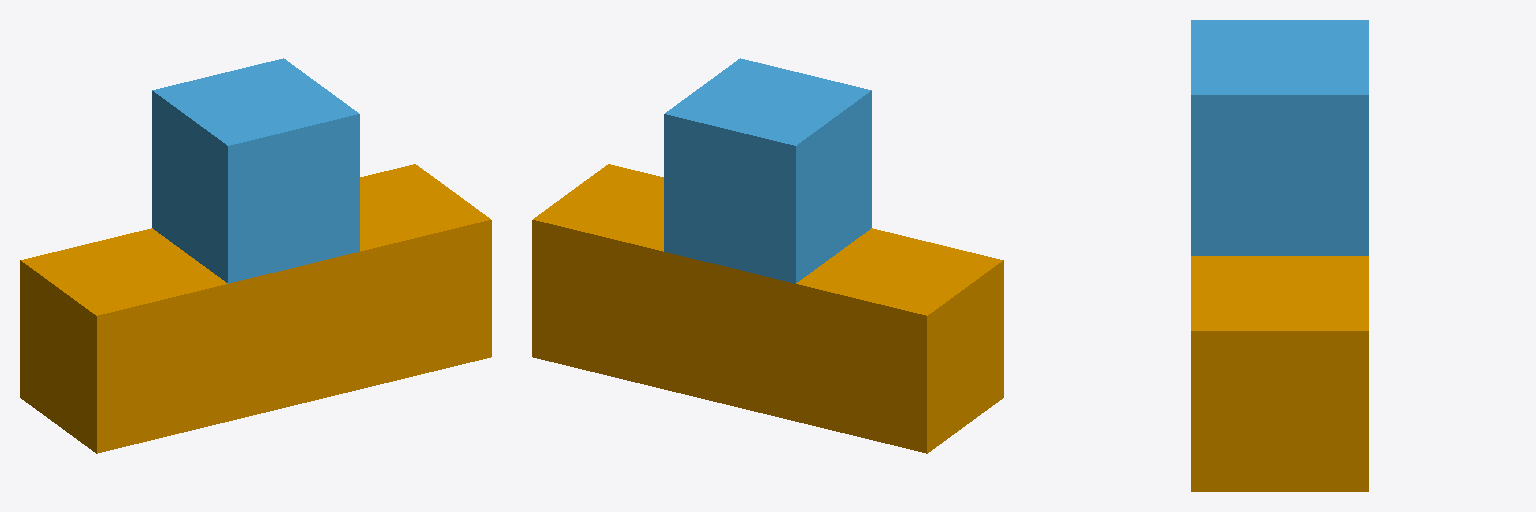
robot.urdf — Prismatic:
<robot name="Prismatic">
	<link name="base_link">
	
		<visual name="" with_col="true">
			<origin xyz="0 0 0" rpy="0 0 0"/>
			<geometry>
			<box size="0.3 0.1 0.1"/>
			</geometry>
			<material name="">
			
			</material>
		</visual>

	</link>
	
	
	<link name="slider">
	
		<visual name="" with_col="true">
			<origin xyz="0 0 0" rpy="0 0 0"/>
			<geometry>
			<box size="0.1 0.1 0.1"/>
			</geometry>
			<material name="">
			
			</material>
		</visual>

	</link>

	<joint name="slider_joint" type="prismatic" visible="true">
		<origin xyz="0 0 0.1" rpy="0 0 0"/>
		<parent link="base_link"/>
		<child link="slider"/>
		<axis xyz="1.0 0.0 0.0"/>
		<limit lower="-0.1" upper="0.1" effort="1.0" velocity="0.2"/>
	</joint>

</robot>

--- Facts derived from the render (not from the file) ---
3 views of the same robot in one strip: view 1: azimuth 30°, elevation 25°; view 2: azimuth 150°, elevation 25°; view 3: azimuth 270°, elevation 25° (orthographic).
Robot: Prismatic — 2 links, 1 joints (1 prismatic); root link base_link; default pose: all joints at 0.
Visible links, largest first — view 1: base_link, slider; view 2: base_link, slider; view 3: base_link, slider.
Link boxes in pixels (x1,y1,x2,y2): base_link: [20, 164, 491, 453]; slider: [152, 58, 359, 283]; base_link: [532, 164, 1003, 453]; slider: [664, 58, 871, 283]; base_link: [1191, 256, 1368, 491]; slider: [1191, 20, 1368, 255].
Bounding box of the posed robot: 0.3 × 0.1 × 0.2 m (x, y, z).
Geometry: primitives only (box / cylinder / sphere), no mesh files.